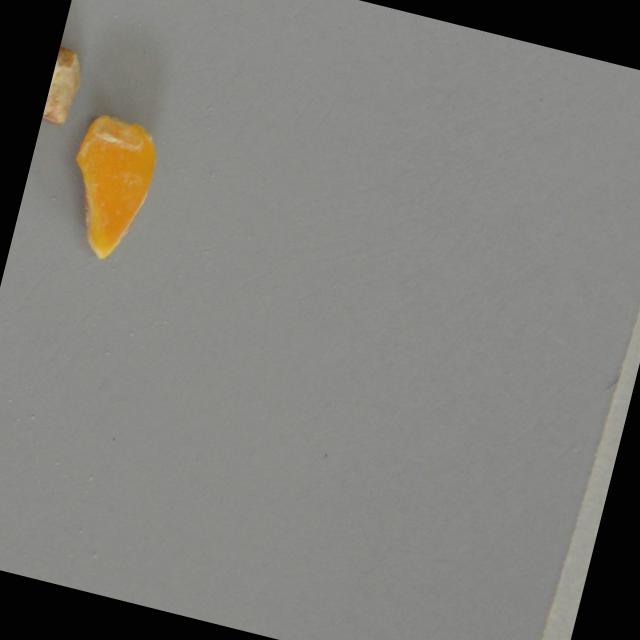dañado: (50, 109, 170, 266), (39, 42, 96, 132)
